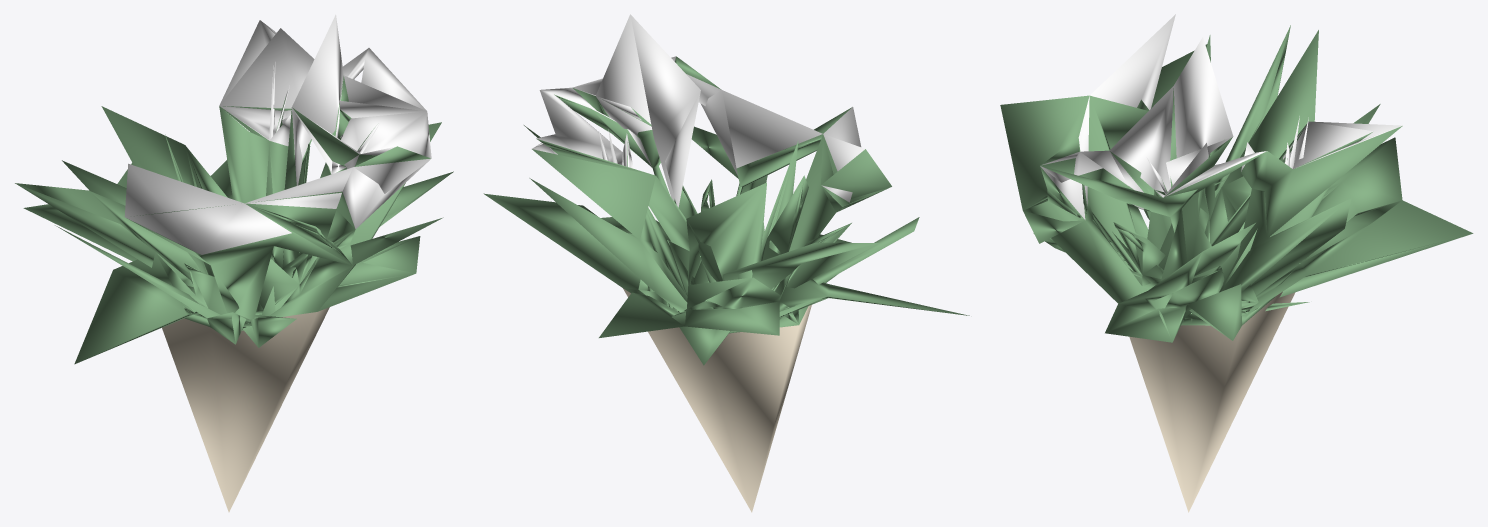
3 renders of one model, left to right at view 1: azimuth 30°, elevation 25°; view 2: azimuth 150°, elevation 25°; view 3: azimuth 270°, elevation 25°, orthographic. The views are drawn at different scales.
Visible parts, largest first — view 1: Lily arrangement - Meshy silhouette; view 2: Lily arrangement - Meshy silhouette; view 3: Lily arrangement - Meshy silhouette.
Boxes of the visible parts, x1,y1,x2,y2 form: Lily arrangement - Meshy silhouette: (15,14,453,512); Lily arrangement - Meshy silhouette: (483,14,969,512); Lily arrangement - Meshy silhouette: (1000,14,1473,512).
Size of the model in its own units: 76.95 by 79.81 by 63.38.
